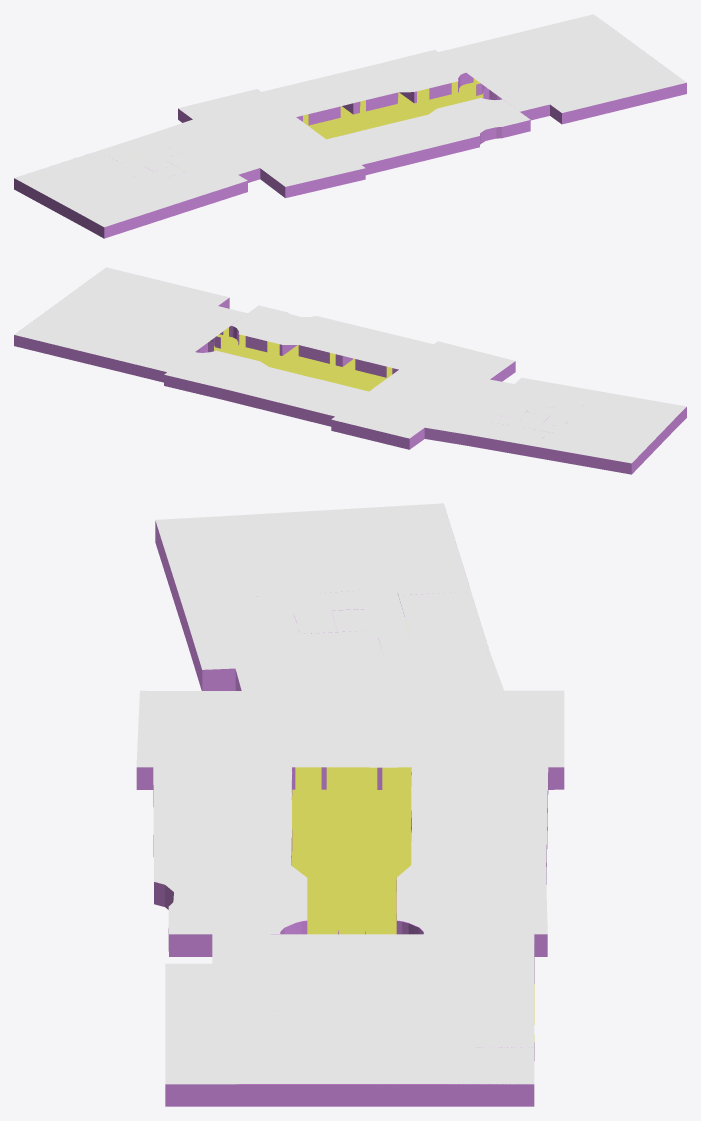
The model's file is hoboken_inside.fbx.
3 views of the same model, one above another, from view 1: azimuth 30°, elevation 25°; view 2: azimuth 150°, elevation 25°; view 3: azimuth 270°, elevation 25° (orthographic). The views are drawn at different scales.
Parts seen in each view (by area): view 1: Cube; view 2: Cube; view 3: Cube.
Boxes of the visible parts, <box> form: Cube: <box>14,14,686,238</box>; Cube: <box>14,267,686,474</box>; Cube: <box>136,503,564,1106</box>.
Size of the model in its own units: 43629 by 788 by 13587.
